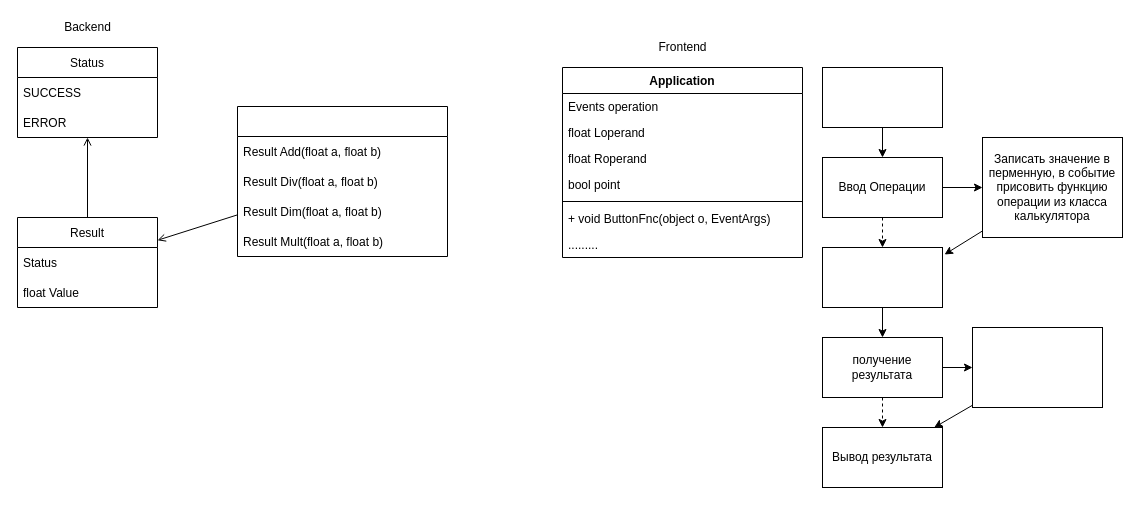
Image size: 1140x505. Some labels were removed from this diagram. The shapes that lost their labels are listed below. From the top down, each one's box as (x1, y1, x2, y2) in pixels, then its label:
(822, 66, 942, 128): Ввод первого операнда
(236, 106, 448, 256): Calculator
(822, 246, 942, 308): Ввод второго операнда
(972, 326, 1102, 408): Запись значения во вторую переменную выполнение события с параметрами
